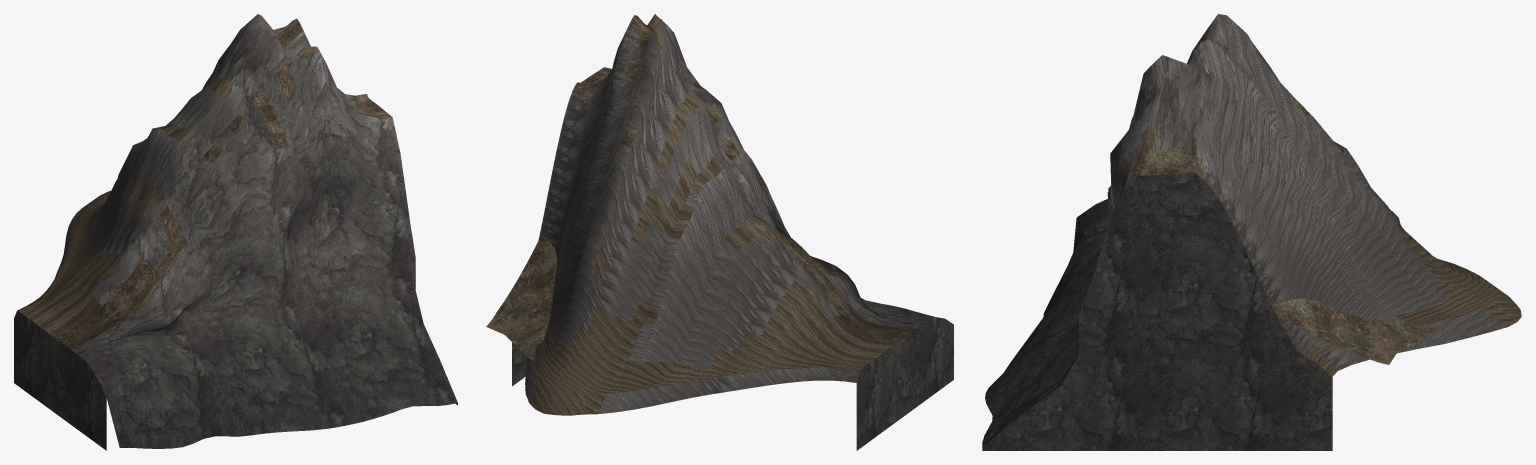
Rendered from seacliff_endcap_left_h3_b_v5_autumn.glb.
3 views of the same model, side by side, from view 1: azimuth 30°, elevation 25°; view 2: azimuth 150°, elevation 25°; view 3: azimuth 270°, elevation 25° (orthographic). The views are drawn at different scales.
Parts seen in each view (by area): view 1: seacliff_endcap_left_h3_b; view 2: seacliff_endcap_left_h3_b; view 3: seacliff_endcap_left_h3_b.
Boxes of the visible parts, x1,y1,x2,y2 form: seacliff_endcap_left_h3_b: [14, 14, 457, 450]; seacliff_endcap_left_h3_b: [486, 14, 953, 450]; seacliff_endcap_left_h3_b: [982, 14, 1521, 450].
Bounding box in the file's own units: 6 × 6.25 × 7.92.
Materials: 2 (2 with a texture image).
